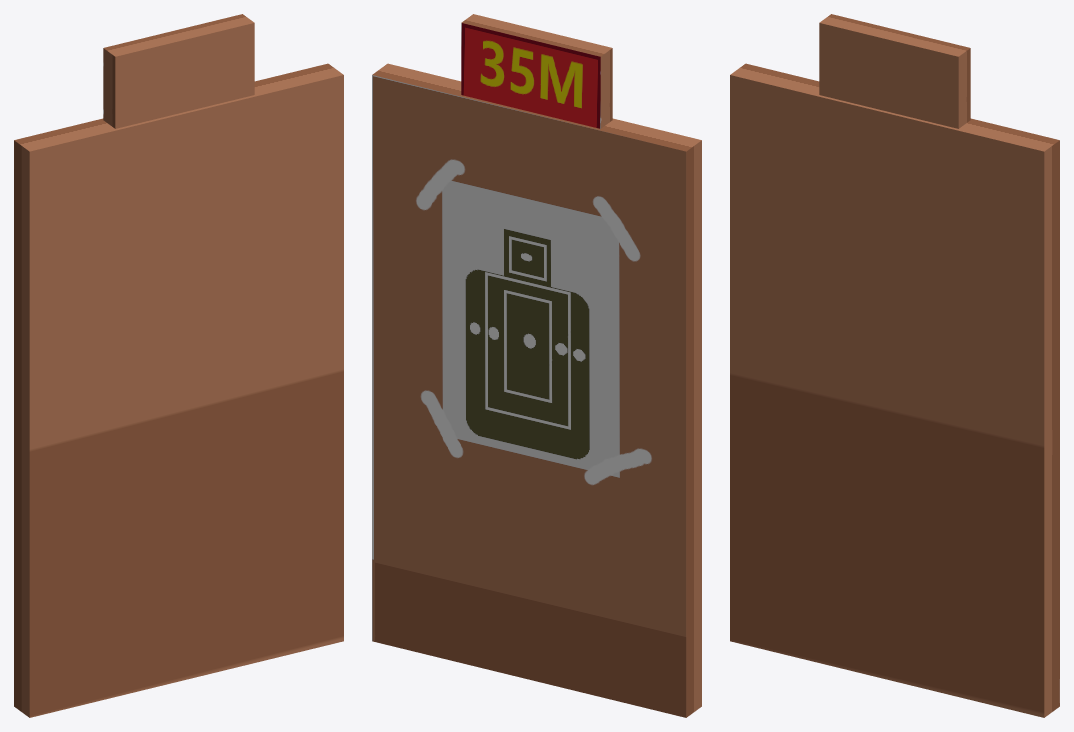
The model's file is TrainingWoodTarget.fbx.
The picture shows the model from 3 angles, left to right: view 1: azimuth 30°, elevation 25°; view 2: azimuth 150°, elevation 25°; view 3: azimuth 330°, elevation 25°; orthographic projection.
Parts seen in each view (by area): view 1: Cube, Cube.001; view 2: Cube, Cube.001; view 3: Cube, Cube.001.
Part boxes in pixels (x1,y1,x2,y2): Cube: (14,63,343,717); Cube.001: (103,14,254,128); Cube: (372,63,701,717); Cube.001: (461,14,612,128); Cube: (730,63,1059,717); Cube.001: (819,14,970,128).
Bounding box in the file's own units: 971 × 1885 × 83.68.
Materials: 1 (1 with a texture image).
